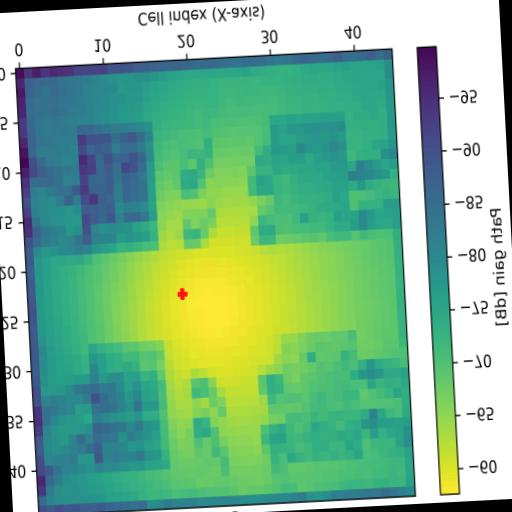Concrete: (282, 328, 363, 462)
Glass: (88, 340, 170, 472)
Metal: (270, 112, 352, 244)
Wood: (77, 120, 159, 254)
